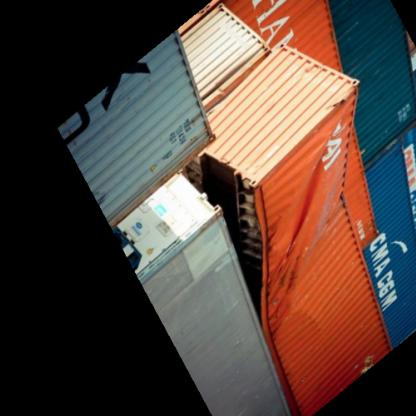Damage: (253, 101, 339, 342)
